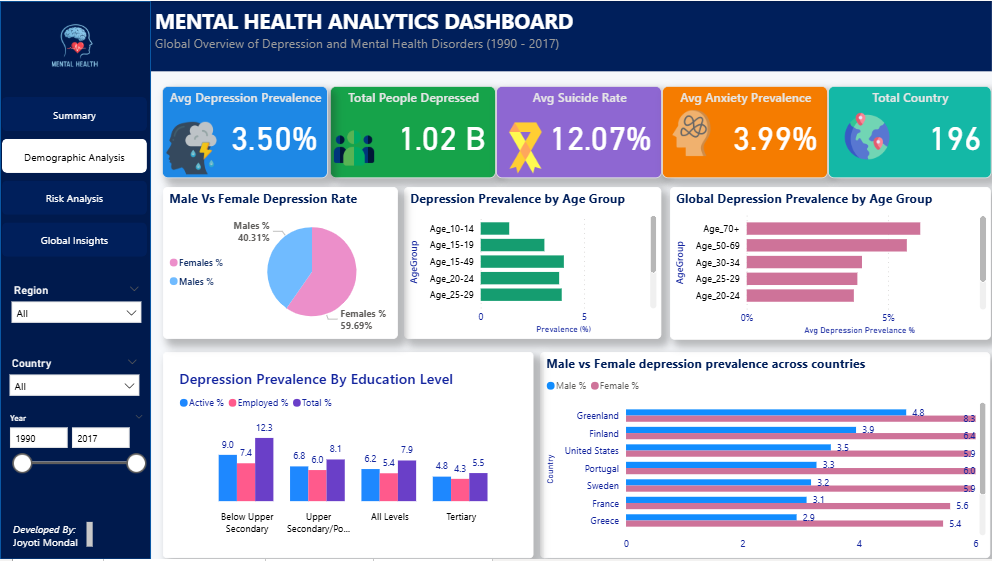

Layout of this report page (visuals, bound fields, positions):
{"tool":"powerbi","page":{"name":"Demographic Analysis","canvas":[1280,720],"ordinal":1},"visuals":[{"type":"shape","box":[0,0,194.9,720.6],"z":0},{"type":"cardVisual","title":"Avg Depression Prevalence","fields":{"Data":["_Key Measures.Avg Depression Prevalence %"]},"box":[209.5,109.5,214.3,119],"z":0,"group":"g1"},{"type":"shape","box":[194.9,0,1085.1,90.7],"z":1000},{"type":"image","box":[209.5,149.2,76.2,79.4],"z":1000,"group":"g1"},{"type":"textbox","box":[195.2,3.2,558.7,84.1],"z":2000},{"type":"image","box":[11.8,3.4,171.3,120.9],"z":3000},{"type":"slicer","fields":{"Values":["DimCountry.Country"]},"box":[3.2,454,187.3,73],"z":4000},{"type":"slicer","title":"Year","fields":{"Values":["DimYear.Year"]},"box":[0,527,196.8,120.6],"z":5000},{"type":"cardVisual","title":"Total People Depressed","fields":{"Data":["_Key Measures.People Suffering KPI"]},"box":[425.4,109.5,214.3,119],"z":6000},{"type":"cardVisual","title":"Avg Suicide Rate","fields":{"Data":["_Key Measures.Avg Suicide Rate"]},"box":[639.7,109.5,214.3,119],"z":7000},{"type":"cardVisual","title":"Avg Anxiety Prevalence","fields":{"Data":["_Key Measures.Avg Anxiety Prevalence %"]},"box":[854,109.5,214.3,119],"z":8000},{"type":"cardVisual","title":"Total Country","fields":{"Data":["_Key Measures.Total Country"]},"box":[1068.3,109.5,211.1,119],"z":9000},{"type":"group","id":"g1","title":"Group 1","box":[209.5,109.5,214.3,119],"z":10000},{"type":"image","box":[425.4,149.2,61.9,79.4],"z":11000},{"type":"image","box":[639.7,149.2,76.2,79.4],"z":12000},{"type":"image","box":[854,130.2,76.2,79.4],"z":13000},{"type":"image","box":[1084.1,139.7,69.8,69.8],"z":14000},{"type":"pageNavigator","box":[3.2,123.8,187.3,209.5],"z":15000},{"type":"slicer","fields":{"Values":["DimCountry.Region"]},"box":[4.8,360.3,187.3,92.1],"z":16000},{"type":"textbox","box":[11.1,666.7,112.7,42.9],"z":17000},{"type":"clusteredBarChart","title":"Depression Prevalence by Age Group","fields":{"Category":["DepressionByAge.AgeGroup"],"Y":["Avg(DepressionByAge.Depression %)"]},"box":[521.6,239.5,331.7,195.6],"z":18000},{"type":"clusteredBarChart","title":"Male vs Female depression prevalence across countries","fields":{"Y":["_Key Measures.Avg Male %","_Key Measures.Avg Female %"],"Category":["DepressionByGender.Country"]},"box":[697.3,453.5,581.1,266.5],"z":19000},{"type":"clusteredColumnChart","title":"Depression Prevalence By Education Level","fields":{"Category":["Education Level.Education"],"Y":["_Key Measures.Active %","_Key Measures.Employed %","_Key Measures.Total %"]},"box":[209.8,453.5,477.6,266.5],"z":20000},{"type":"pieChart","title":"Male Vs Female Depression Rate","fields":{"Y":["Sum(DepressionByGender.Females %)","Sum(DepressionByGender.Males %)"]},"box":[209.8,239.5,303.3,195.6],"z":22000},{"type":"clusteredBarChart","title":"Global Depression Prevalence by Age Group","fields":{"Category":["DepressionByAge.AgeGroup"],"Y":["_Key Measures.Avg Depression Prevelance %"]},"box":[864.6,239.5,413.9,197],"z":23000}]}

Visuals, with their boxes in screenshot pixels (x1, y1, x2, y2), scaled from the page's 1280x720 canvas onto the 992x561 screenshot:
shape: (left=0, top=0, right=151, bottom=560)
"Avg Depression Prevalence" cardVisual: (left=162, top=85, right=328, bottom=178)
shape: (left=151, top=0, right=991, bottom=71)
image: (left=162, top=116, right=221, bottom=178)
textbox: (left=151, top=2, right=584, bottom=68)
image: (left=9, top=3, right=142, bottom=97)
slicer - DimCountry.Country: (left=2, top=354, right=148, bottom=411)
"Year" slicer: (left=0, top=411, right=153, bottom=505)
"Total People Depressed" cardVisual: (left=330, top=85, right=496, bottom=178)
"Avg Suicide Rate" cardVisual: (left=496, top=85, right=662, bottom=178)
"Avg Anxiety Prevalence" cardVisual: (left=662, top=85, right=828, bottom=178)
"Total Country" cardVisual: (left=828, top=85, right=991, bottom=178)
"Group 1" group: (left=162, top=85, right=328, bottom=178)
image: (left=330, top=116, right=378, bottom=178)
image: (left=496, top=116, right=555, bottom=178)
image: (left=662, top=101, right=721, bottom=163)
image: (left=840, top=109, right=894, bottom=163)
pageNavigator: (left=2, top=96, right=148, bottom=260)
slicer - DimCountry.Region: (left=4, top=281, right=149, bottom=352)
textbox: (left=9, top=519, right=96, bottom=553)
"Depression Prevalence by Age Group" clusteredBarChart: (left=404, top=187, right=661, bottom=339)
"Male vs Female depression prevalence across countries" clusteredBarChart: (left=540, top=353, right=991, bottom=560)
"Depression Prevalence By Education Level" clusteredColumnChart: (left=163, top=353, right=533, bottom=560)
"Male Vs Female Depression Rate" pieChart: (left=163, top=187, right=398, bottom=339)
"Global Depression Prevalence by Age Group" clusteredBarChart: (left=670, top=187, right=991, bottom=340)
